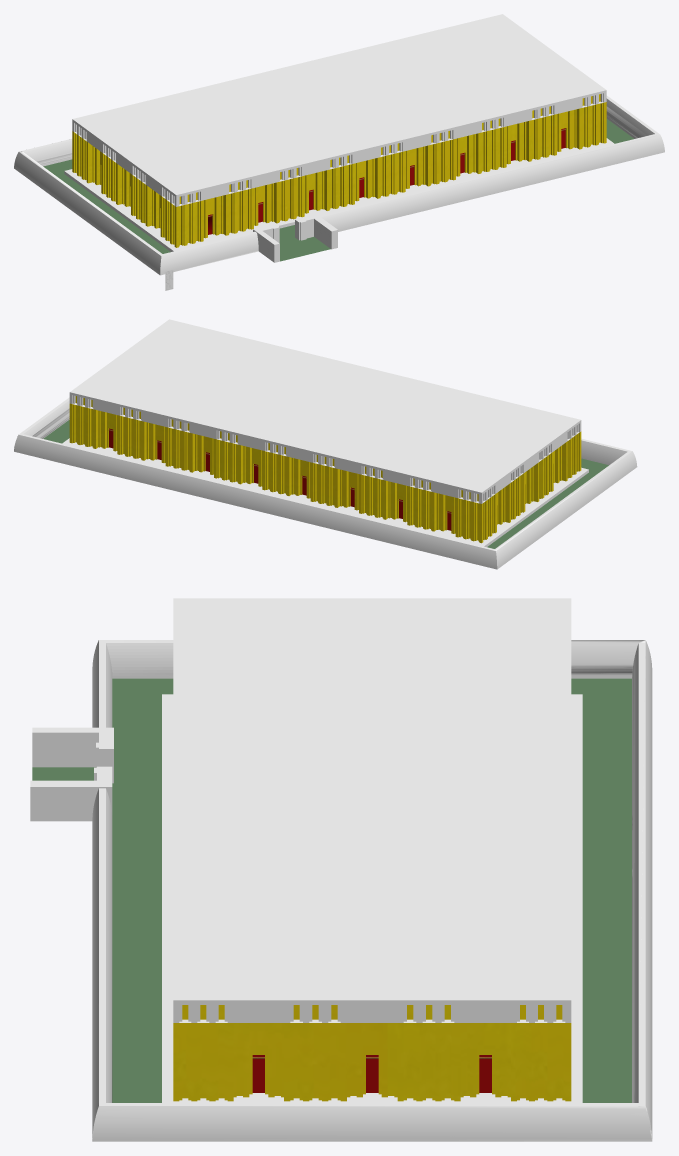
3 views of the same model, one above another, from view 1: azimuth 30°, elevation 25°; view 2: azimuth 150°, elevation 25°; view 3: azimuth 270°, elevation 25° (orthographic). The views are drawn at different scales.
Parts seen in each view (by area): view 1: Mesh1 Model; view 2: Mesh1 Model; view 3: Mesh1 Model.
Boxes of the visible parts, x1,y1,x2,y2 form: Mesh1 Model: (14, 14, 664, 275); Mesh1 Model: (14, 319, 637, 569); Mesh1 Model: (30, 598, 652, 1141).
Size of the model in its own units: 45.39 by 4.68 by 24.86.
Materials: 6 (6 with a texture image).
